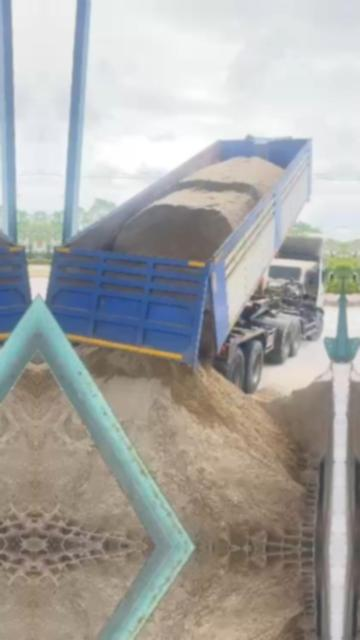sand: (80, 348, 304, 547), (34, 365, 145, 539), (114, 157, 284, 261), (250, 380, 332, 456), (199, 306, 212, 360)
